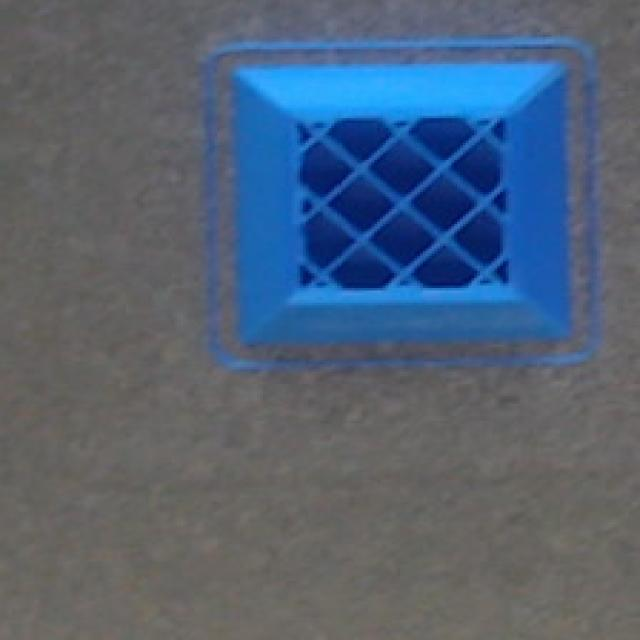noMistake: (206, 42, 597, 364)
